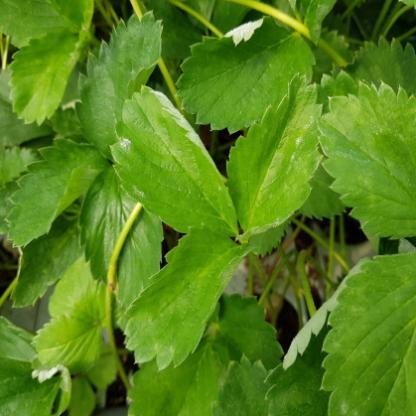Strawberry_Powdery_Mildew_Leaf: (109, 82, 240, 238), (227, 70, 325, 242), (176, 15, 316, 135), (262, 275, 347, 415), (30, 365, 72, 415)
